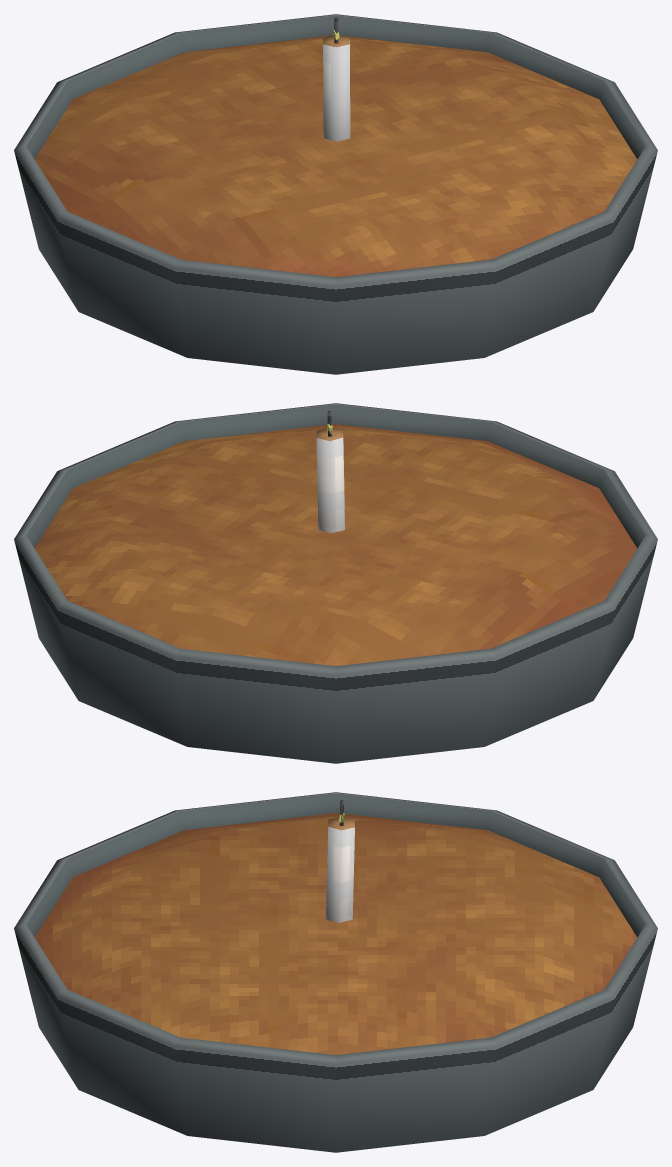
The model's file is CakePan_Candle.fbx.
3 views of the same model, one above another, from view 1: azimuth 30°, elevation 25°; view 2: azimuth 150°, elevation 25°; view 3: azimuth 270°, elevation 25° (orthographic).
Parts seen in each view (by area): view 1: Cake001.001; view 2: Cake001.001; view 3: Cake001.001.
Part boxes in pixels (box(x1,y1,x2,y2)): Cake001.001: box(14, 14, 657, 374); Cake001.001: box(14, 403, 657, 763); Cake001.001: box(14, 792, 657, 1152).
Bounding box in the file's own units: 59.68 × 23.28 × 59.68.
